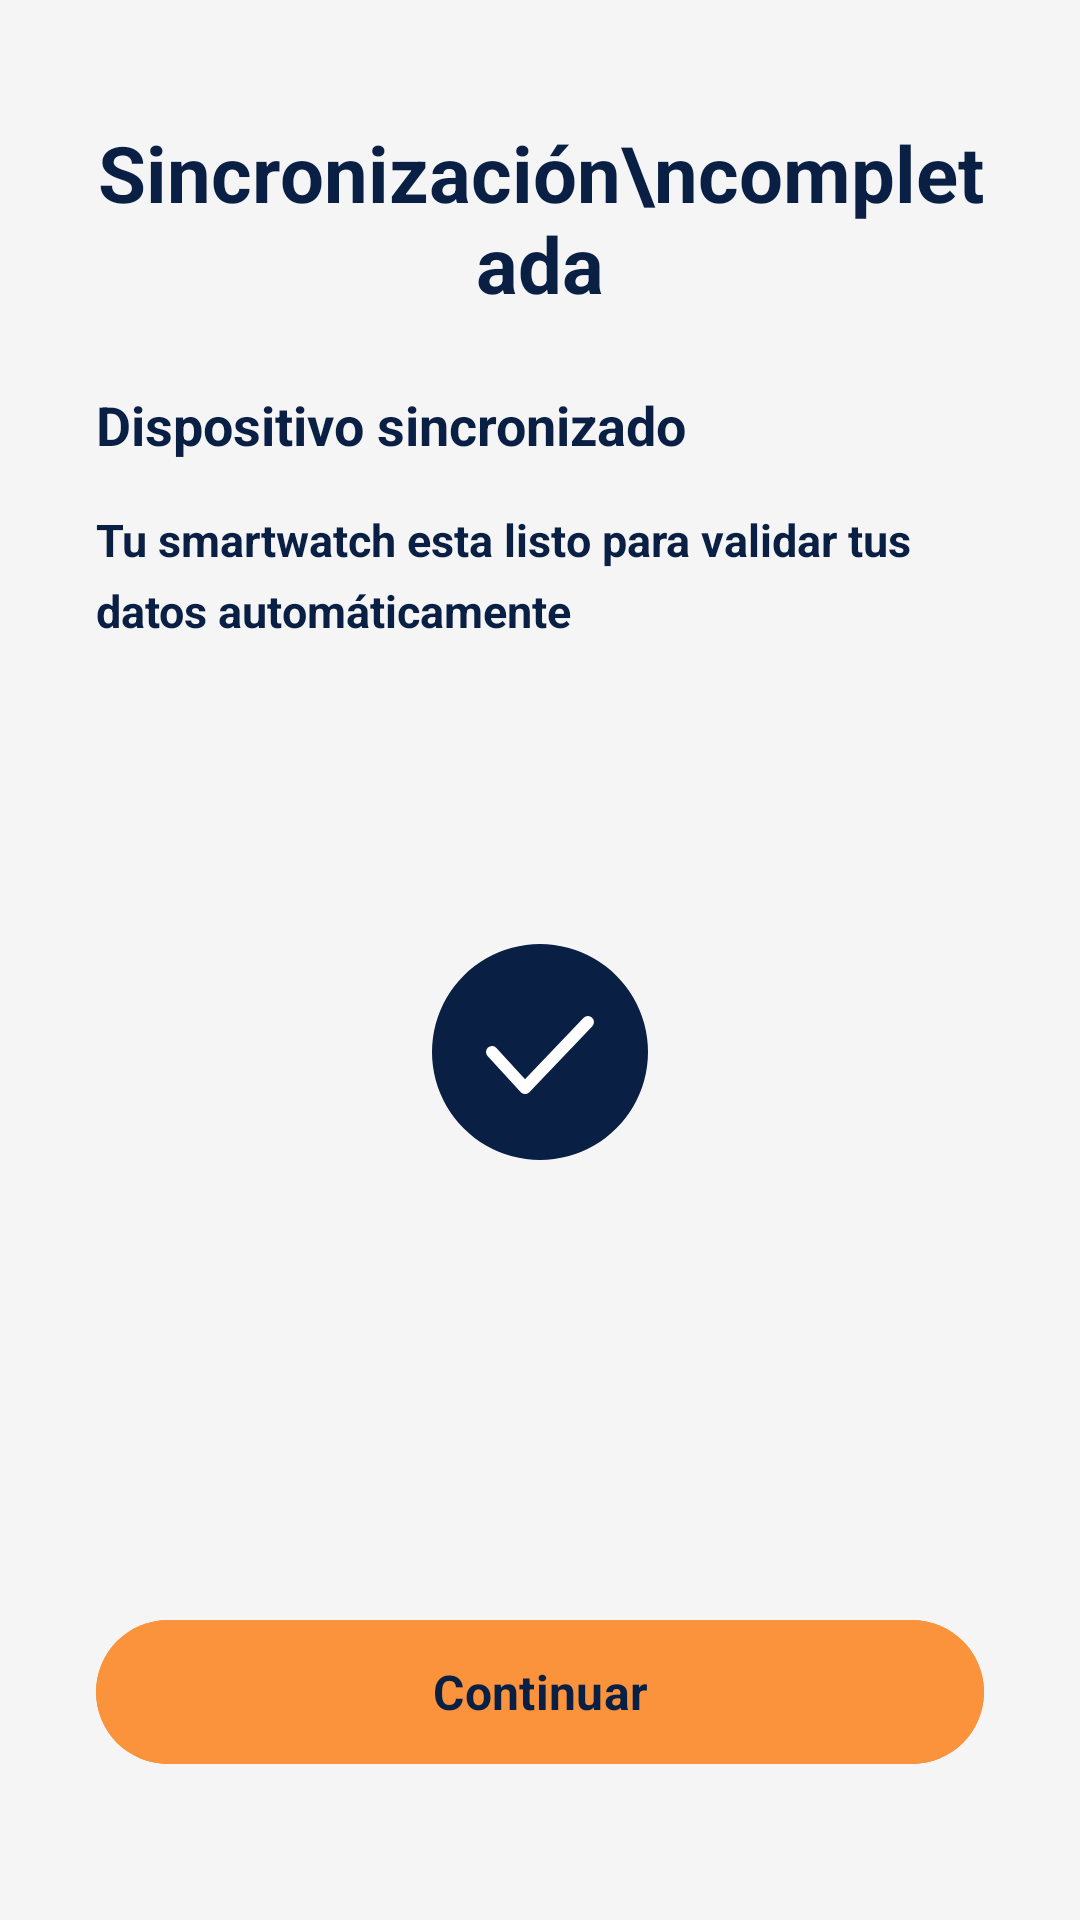

Point at icon controls on the screen. Image size 1080 × 1920, points as (x,y).
Sincronizado: (540,1052)
